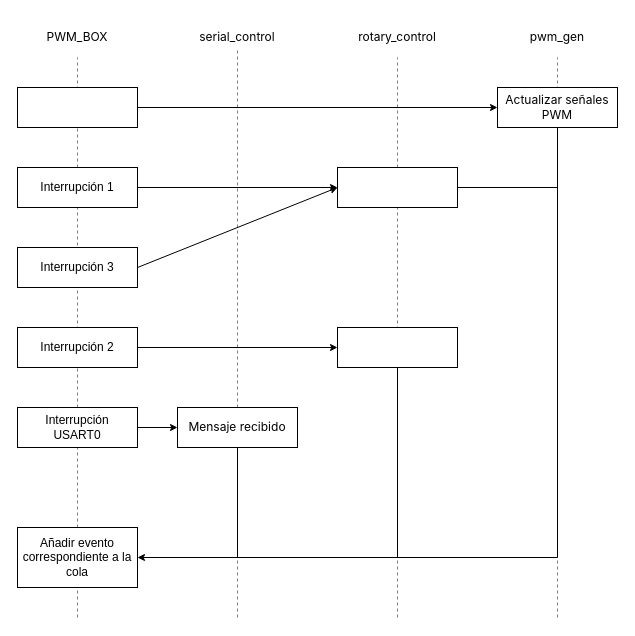
The diagram is 635 pixels wide and 636 high, and some of its shapes have lost their labels. The centre of each missing label's shape, as x and y in pixels:
Detectar pulsación: (x=397, y=347)
Determinar dirección del giro: (x=397, y=187)
Interrupción TIMER: (x=77, y=107)
